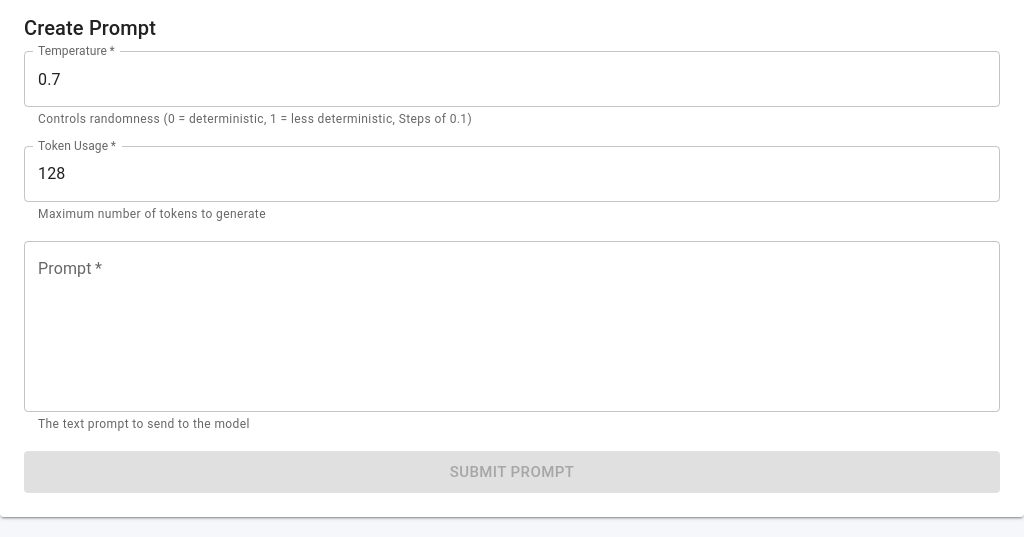
Scenario: JobsPage - Prompt Input Form › enables submit button when prompt has content
Expected: the heading "Create Prompt" is shown, [24,16,156,40]
Expected: the button "Submit Prompt" is disabled, [24,451,1000,493]
Type "Test" into the text box labelled "Prompt *". click: (512, 326)
box: [38,257,986,395]
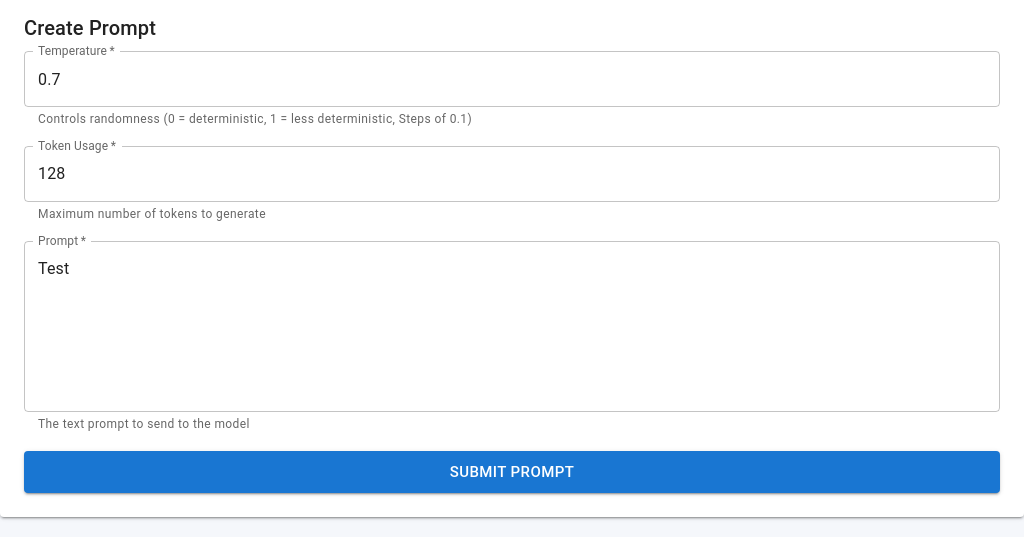
Result: the button "Submit Prompt" is enabled at [24,451,1000,493]
